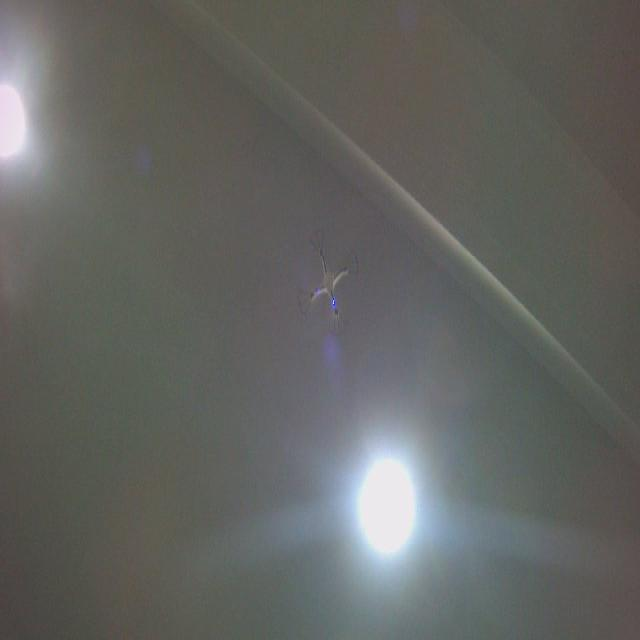drone: (295, 224, 363, 339)
